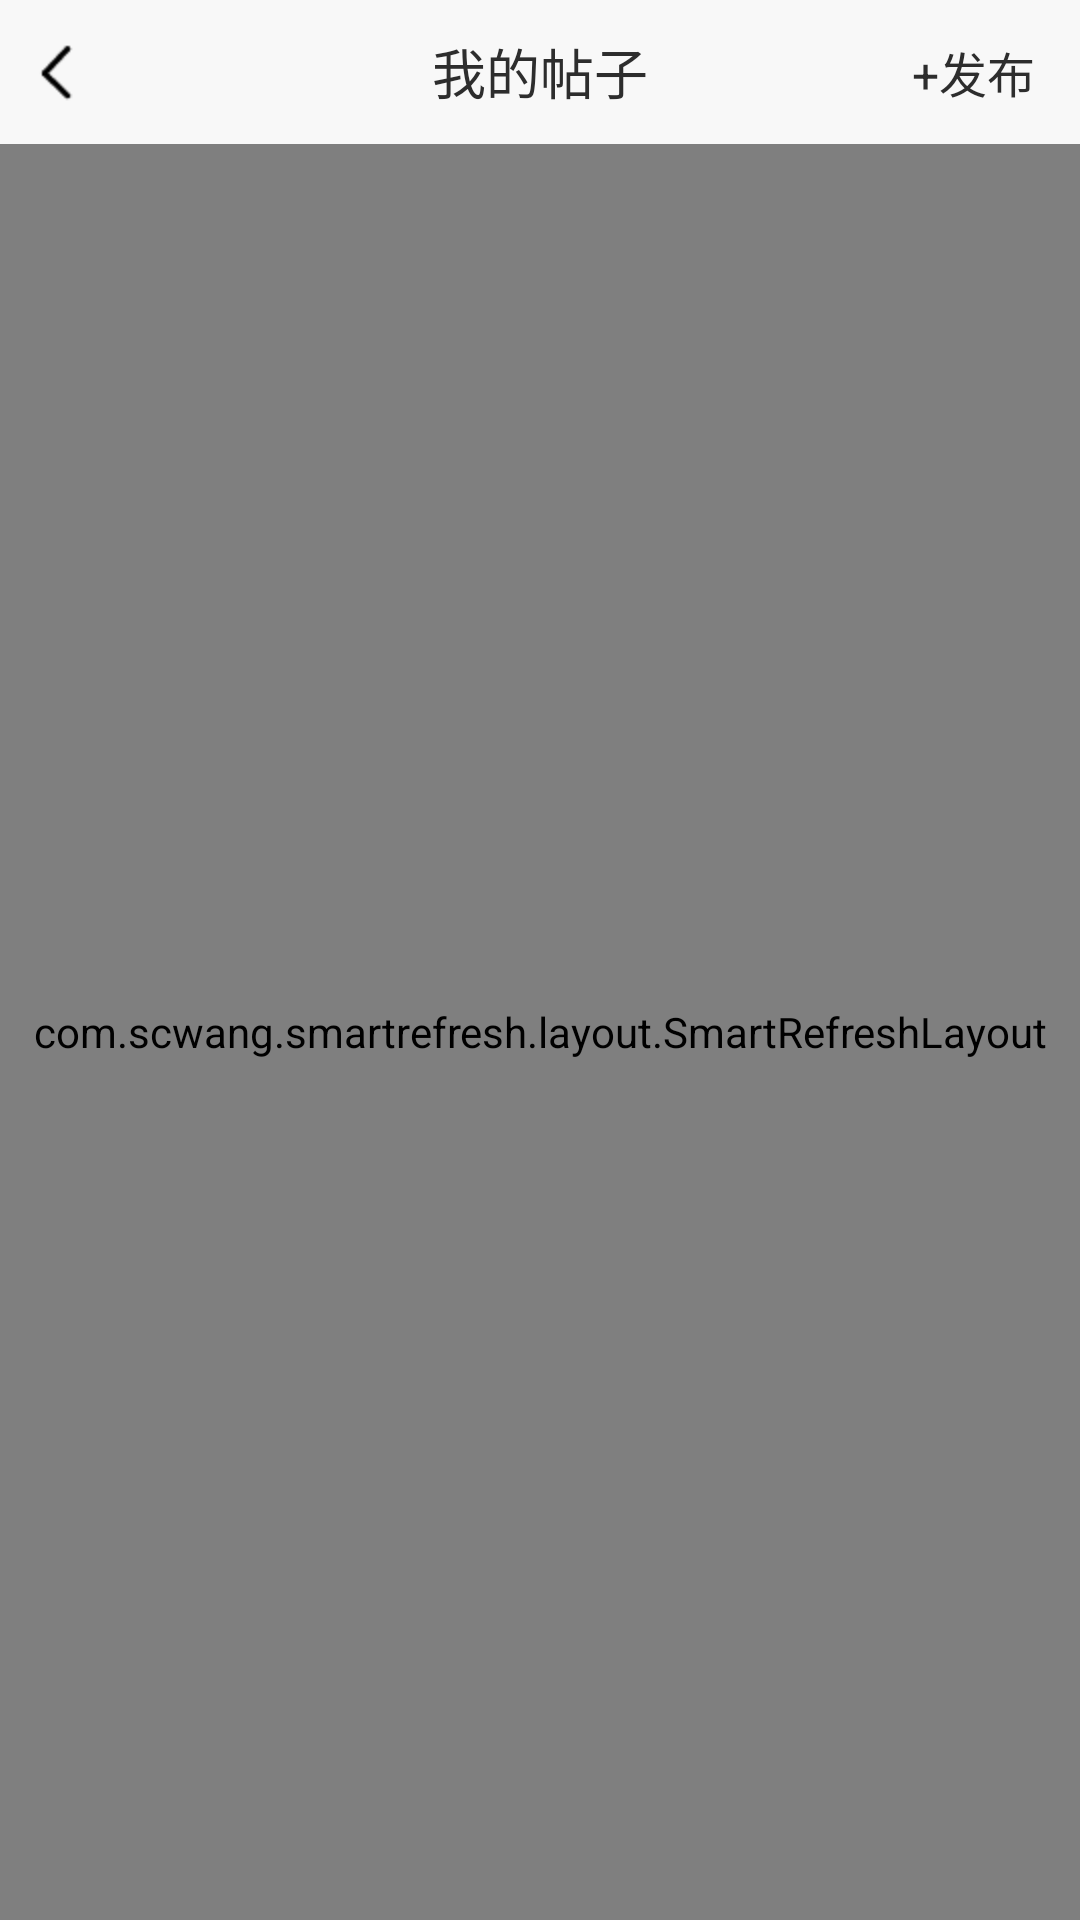

Locate icon controls on the screen. Image size 1080×1920, boxes as (x1, y1, x2, y2).
back: (41, 45, 72, 100)
